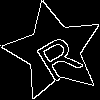R: (28, 26, 84, 84)
